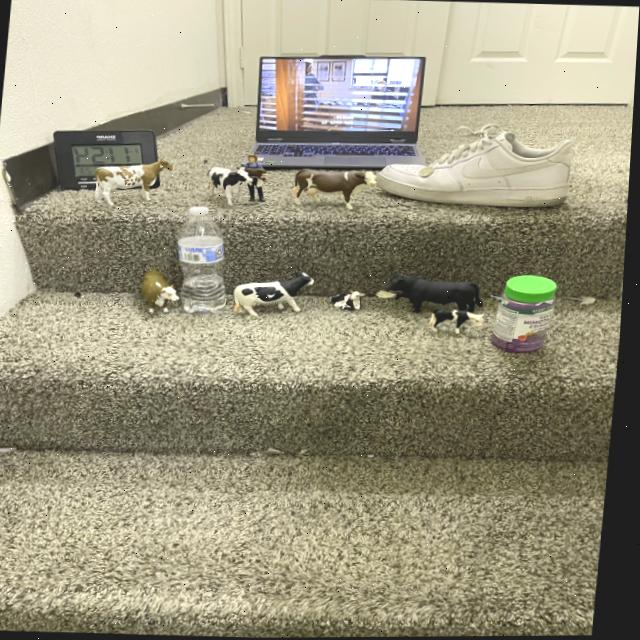cow: (386, 274, 488, 319), (93, 158, 179, 208), (236, 272, 319, 317), (293, 168, 379, 211), (201, 154, 258, 209), (134, 265, 187, 321), (431, 308, 488, 337), (334, 291, 368, 311), (235, 165, 269, 183)
person: (245, 153, 265, 168)
